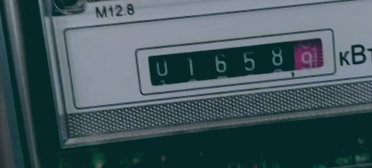0: (154, 56, 170, 79)
1: (184, 55, 197, 78)
5: (241, 49, 258, 73)
6: (212, 51, 229, 75)
8: (269, 44, 285, 68)
9: (298, 50, 314, 73)
screen: (129, 19, 346, 105)
